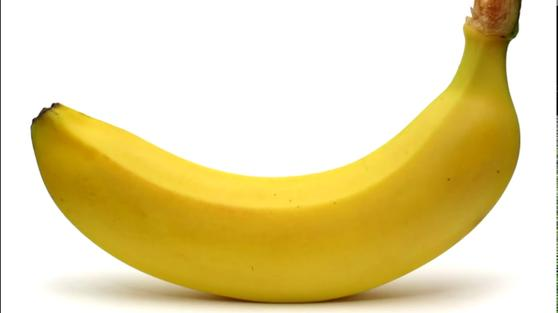banana: (12, 7, 544, 306)
